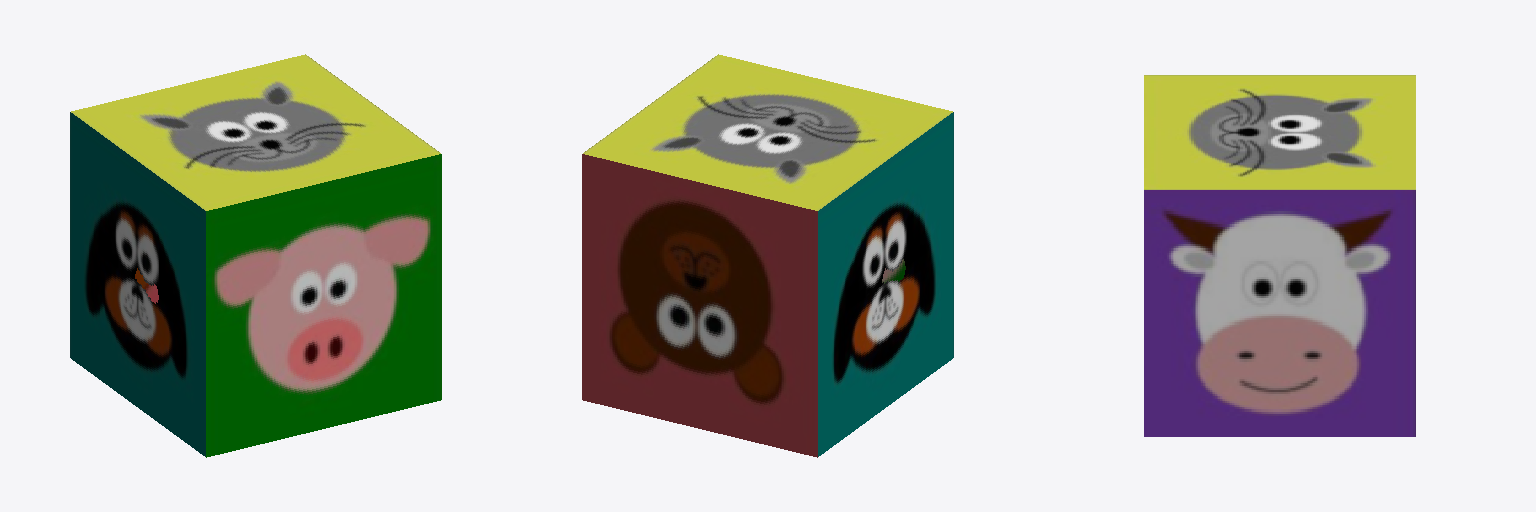
3 views of the same model, side by side, from view 1: azimuth 30°, elevation 25°; view 2: azimuth 150°, elevation 25°; view 3: azimuth 270°, elevation 25° (orthographic).
Visible parts, largest first — view 1: Box002; view 2: Box002; view 3: Box002.
Part boxes in pixels (x1,y1,x2,y2): Box002: (70,54,441,457); Box002: (582,54,953,457); Box002: (1144,75,1415,436).
Bounding box in the file's own units: 19.68 × 19.68 × 19.69.
Materials: 1 (1 with a texture image).